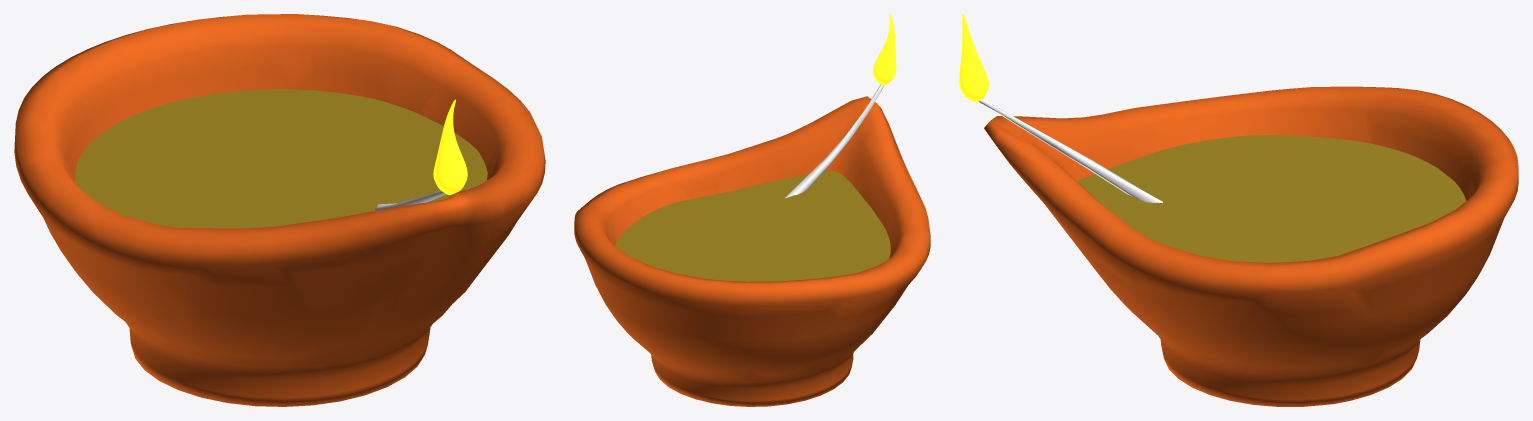
The model's file is diya.glb.
3 views of the same model, side by side, from view 1: azimuth 30°, elevation 25°; view 2: azimuth 150°, elevation 25°; view 3: azimuth 270°, elevation 25° (orthographic). The views are drawn at different scales.
Visible parts, largest first — view 1: Object_2, Object_3, Object_4; view 2: Object_2, Object_3, Object_5, Object_4; view 3: Object_2, Object_3, Object_5, Object_4.
Part boxes in pixels (left/top/right/bottom): Object_2: left=14, top=14, right=545, bottom=406; Object_3: left=75, top=89, right=487, bottom=228; Object_4: left=433, top=99, right=467, bottom=194; Object_2: left=574, top=96, right=930, bottom=406; Object_3: left=615, top=170, right=890, bottom=281; Object_5: left=784, top=84, right=884, bottom=198; Object_4: left=873, top=14, right=896, bottom=85; Object_2: left=984, top=86, right=1518, bottom=406; Object_3: left=1077, top=134, right=1465, bottom=262; Object_5: left=979, top=99, right=1162, bottom=203; Object_4: left=959, top=14, right=988, bottom=102.
Size of the model in its own units: 0.2452 by 0.1972 by 0.3.
